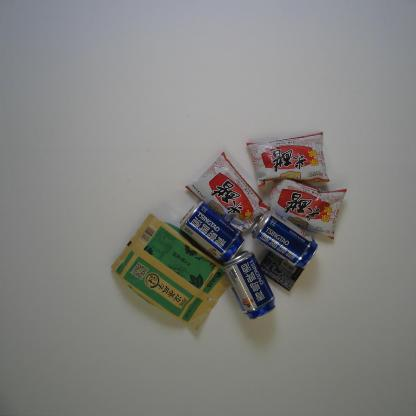Alcohol: (179, 199, 246, 264), (250, 209, 318, 270), (222, 249, 276, 321)
Dried Food: (110, 212, 230, 331)
Gum: (260, 249, 305, 292)
Seasoner: (184, 151, 272, 235), (263, 177, 348, 241), (244, 131, 331, 190)
